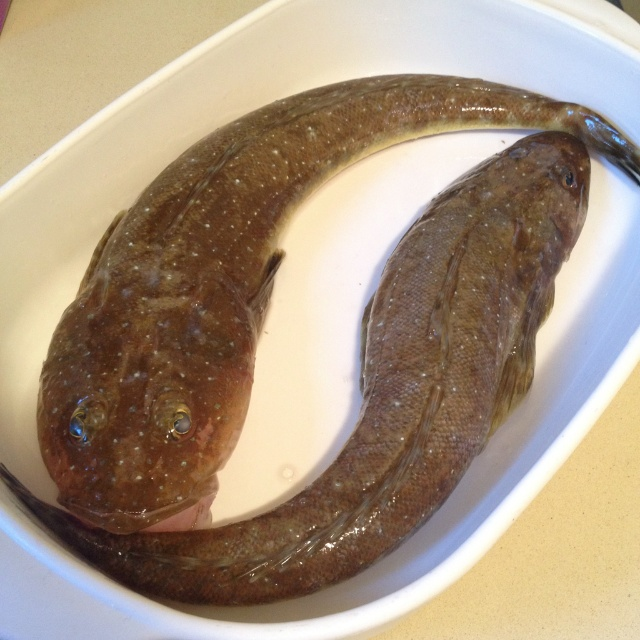Fish: (0, 131, 591, 608), (38, 75, 640, 527)
